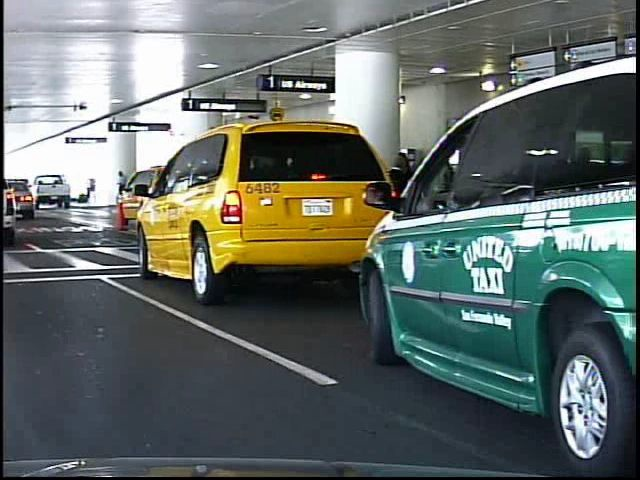person: (109, 170, 125, 208)
